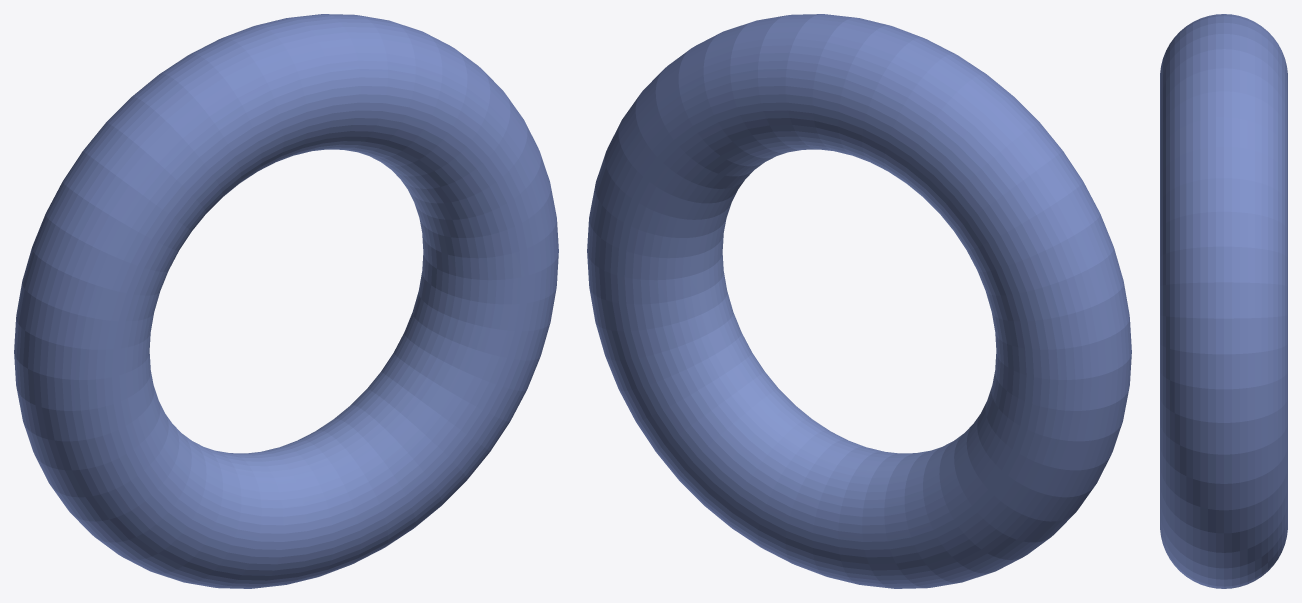
3 renders of one model, left to right at view 1: azimuth 30°, elevation 25°; view 2: azimuth 150°, elevation 25°; view 3: azimuth 270°, elevation 25°, orthographic. The views are drawn at different scales.
Visible parts, largest first — view 1: world; view 2: world; view 3: world.
Boxes of the visible parts, x1,y1,x2,y2 form: world: (14, 14, 558, 588); world: (587, 14, 1131, 588); world: (1160, 14, 1287, 588).
Bounding box in the file's own units: 19.73 × 19.69 × 4.39.
